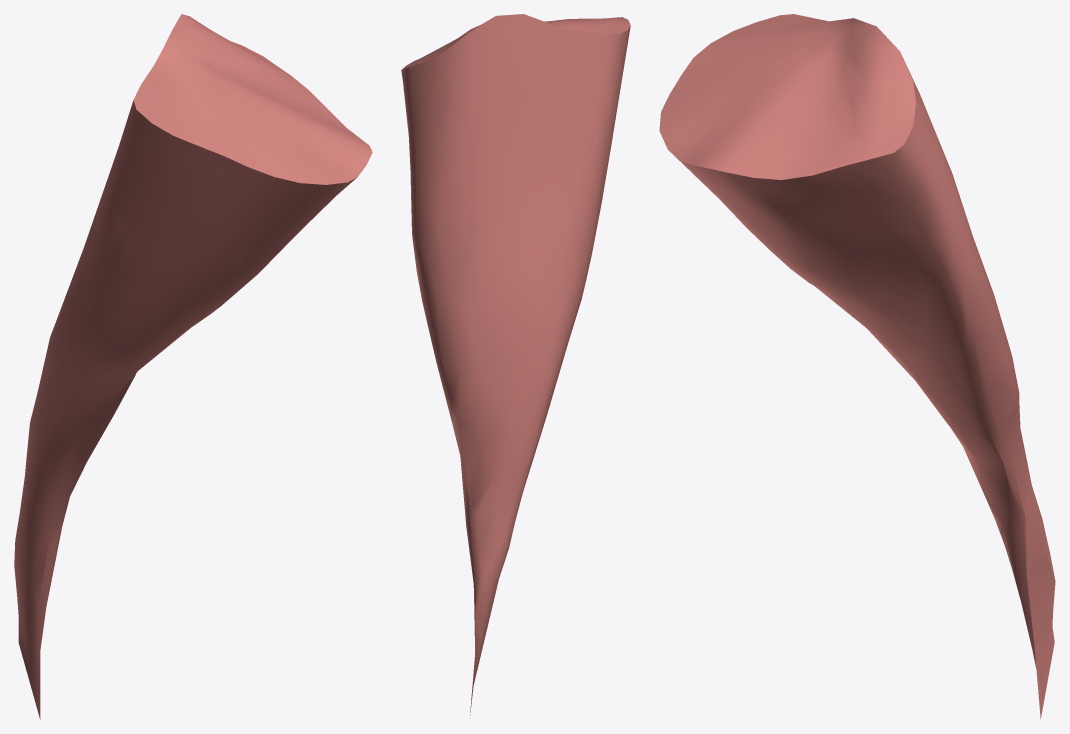
The model's file is fma299425_mm1771.glb.
3 views of the same model, side by side, from view 1: azimuth 30°, elevation 25°; view 2: azimuth 150°, elevation 25°; view 3: azimuth 270°, elevation 25° (orthographic). The views are drawn at different scales.
Parts seen in each view (by area): view 1: FMA299425_MM1771; view 2: FMA299425_MM1771; view 3: FMA299425_MM1771.
Boxes of the visible parts, x1,y1,x2,y2 form: FMA299425_MM1771: (14,14,372,719); FMA299425_MM1771: (401,14,630,715); FMA299425_MM1771: (659,14,1055,718).
Size of the model in its own units: 0.0123 by 0.0403 by 0.0201.
